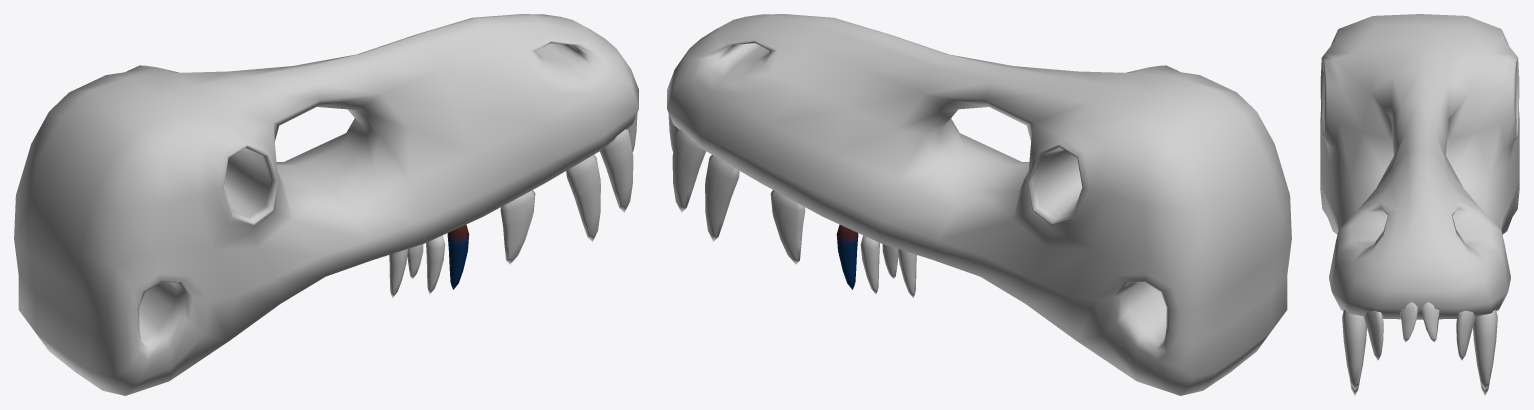
The model's file is DinosaurSkull.fbx.
The picture shows the model from 3 angles, left to right: view 1: azimuth 30°, elevation 25°; view 2: azimuth 150°, elevation 25°; view 3: azimuth 270°, elevation 25°; orthographic projection. The views are drawn at different scales.
Parts seen in each view (by area): view 1: Skull, Tooth.005, Tooth.006, Tooth.004, Tooth.003, Tooth.002, Tooth.007; view 2: Skull, Tooth.005, Tooth.006, Tooth.004, Tooth.003, Tooth.002, Tooth.007; view 3: Skull, Tooth.006, Tooth.009, Tooth.010.
Boxes of the visible parts, left/top/right/bottom form: Skull: left=14, top=14, right=638, bottom=395; Tooth.005: left=566, top=155, right=600, bottom=241; Tooth.006: left=600, top=128, right=633, bottom=212; Tooth.004: left=500, top=190, right=535, bottom=264; Tooth.003: left=447, top=224, right=469, bottom=289; Tooth.002: left=426, top=235, right=445, bottom=294; Tooth.007: left=389, top=249, right=407, bottom=297; Skull: left=667, top=14, right=1291, bottom=395; Tooth.005: left=705, top=155, right=739, bottom=241; Tooth.006: left=672, top=128, right=705, bottom=212; Tooth.004: left=770, top=190, right=805, bottom=264; Tooth.003: left=836, top=224, right=858, bottom=289; Tooth.002: left=860, top=235, right=879, bottom=294; Tooth.007: left=898, top=249, right=916, bottom=297; Skull: left=1320, top=14, right=1519, bottom=319; Tooth.006: left=1342, top=309, right=1497, bottom=390; Tooth.009: left=1364, top=310, right=1475, bottom=360; Tooth.010: left=1399, top=302, right=1440, bottom=341.
Size of the model in its own units: 1184 by 512 by 401.
